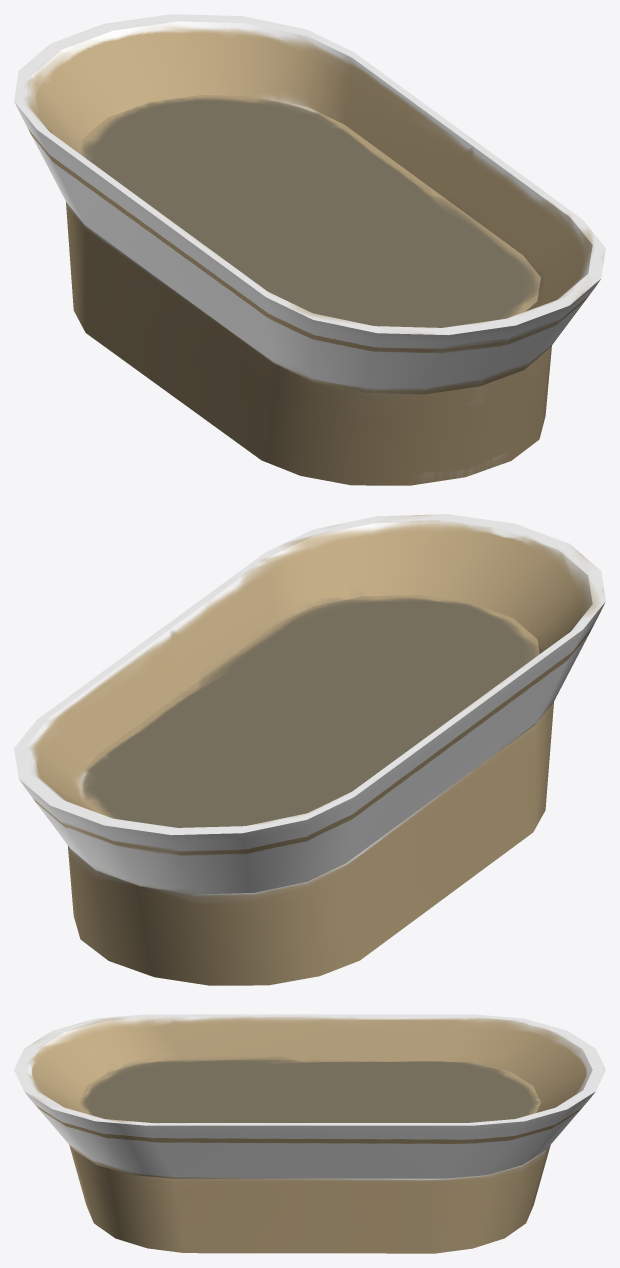
File: bacfindeniveau.fbx
3 views of the same model, one above another, from view 1: azimuth 30°, elevation 25°; view 2: azimuth 150°, elevation 25°; view 3: azimuth 270°, elevation 25° (orthographic). The views are drawn at different scales.
Visible parts, largest first — view 1: pCylinder1; view 2: pCylinder1; view 3: pCylinder1.
Part boxes in pixels (bbox=[...]): pCylinder1: bbox=[14, 14, 605, 485]; pCylinder1: bbox=[14, 514, 605, 985]; pCylinder1: bbox=[14, 1014, 605, 1253].
Size of the model in its own units: 200 by 114 by 450.
